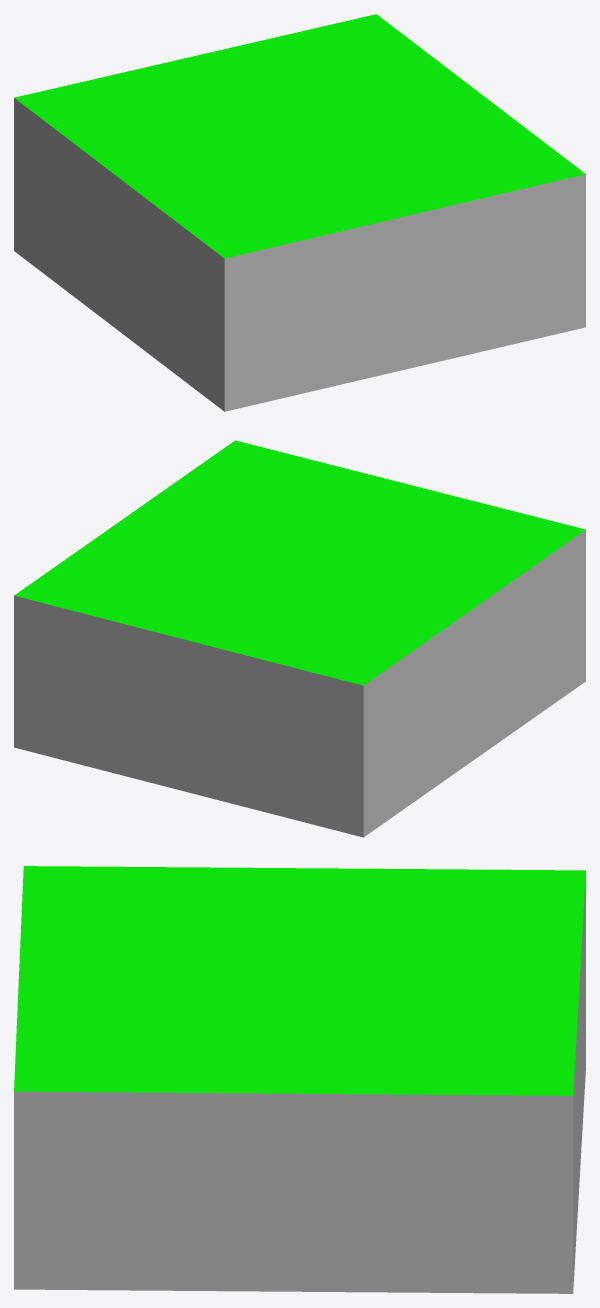
The model's file is DEHB01ALf0000vzE.dae.
The picture shows the model from 3 angles, top to bottom: view 1: azimuth 30°, elevation 25°; view 2: azimuth 150°, elevation 25°; view 3: azimuth 270°, elevation 25°; orthographic projection. The views are drawn at different scales.
Size of the model in its own units: 6.4 by 6.73 by 2.57.
